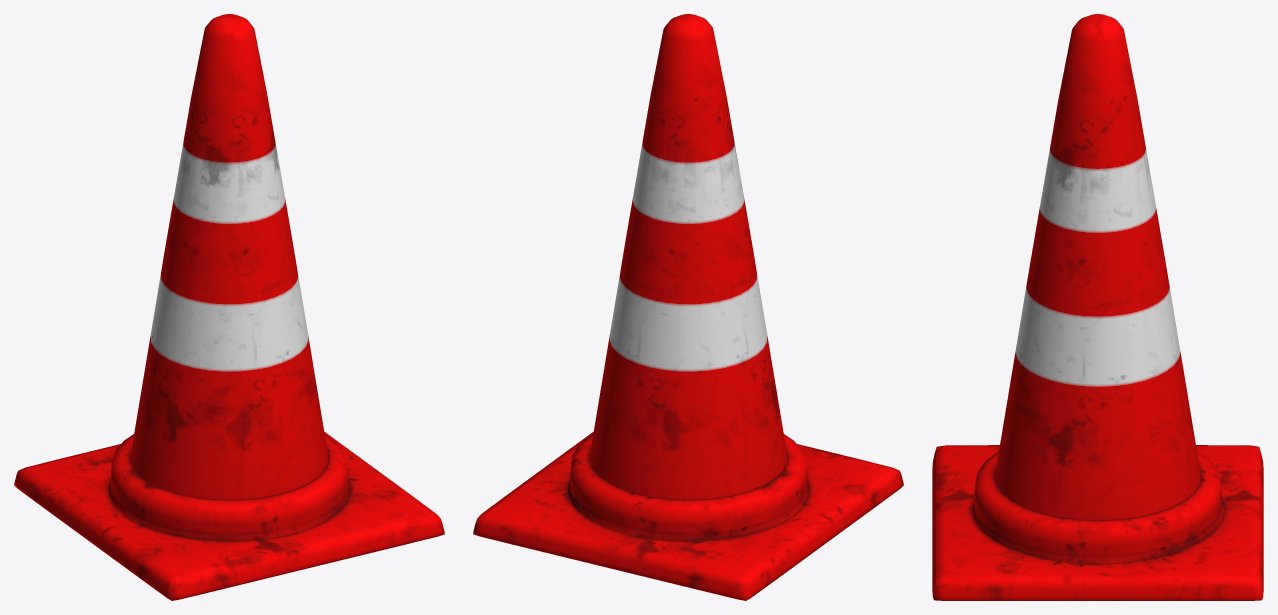
The model's file is Point.fbx.
3 views of the same model, side by side, from view 1: azimuth 30°, elevation 25°; view 2: azimuth 150°, elevation 25°; view 3: azimuth 270°, elevation 25° (orthographic). The views are drawn at different scales.
Visible parts, largest first — view 1: SafetyCone; view 2: SafetyCone; view 3: SafetyCone.
Boxes of the visible parts, <box> form: SafetyCone: <box>14,14,444,600</box>; SafetyCone: <box>473,14,903,600</box>; SafetyCone: <box>932,14,1263,600</box>.
Bounding box in the file's own units: 41.28 × 70.66 × 41.28.
Materials: 1 (1 with a texture image).
